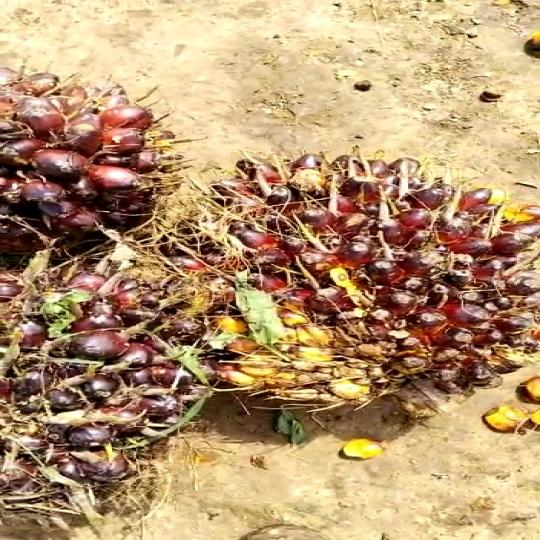kurang masak: (151, 157, 540, 410), (0, 254, 199, 509), (0, 60, 185, 245)
